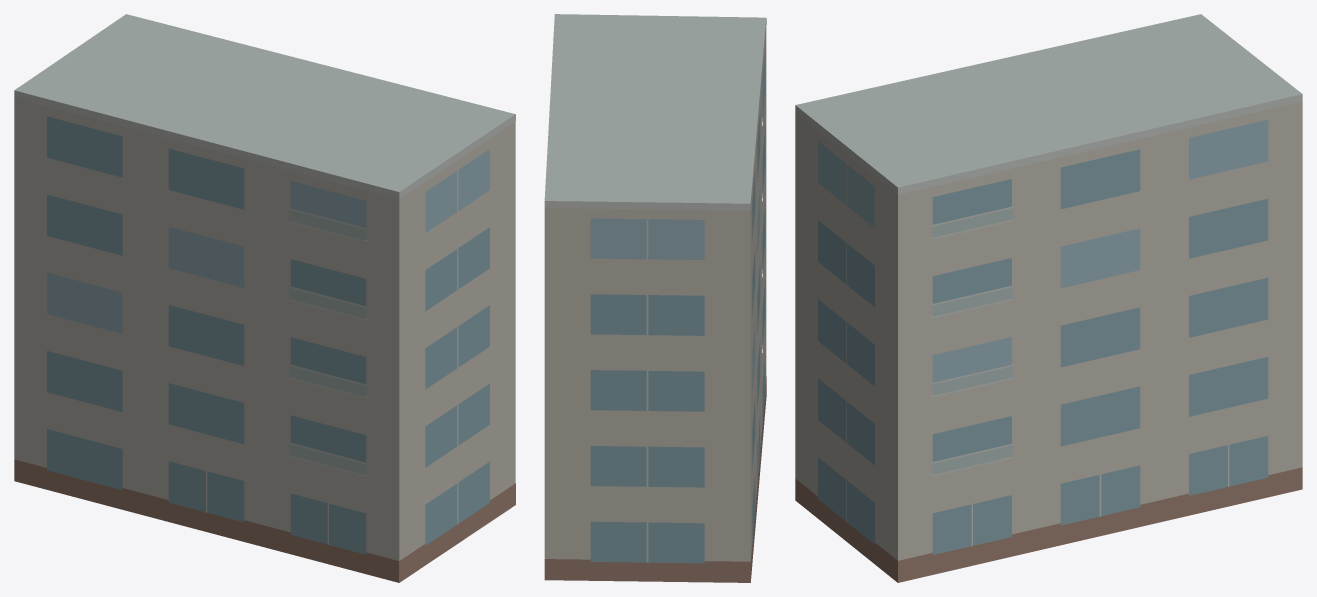
File: survey-upis-32893702.glb
3 renders of one model, left to right at view 1: azimuth 30°, elevation 25°; view 2: azimuth 150°, elevation 25°; view 3: azimuth 270°, elevation 25°, orthographic. The views are drawn at different scales.
Parts seen in each view (by area): view 1: survey-upis-32893702.tmp; view 2: survey-upis-32893702.tmp; view 3: survey-upis-32893702.tmp.
Part boxes in pixels (bbox=[...]): survey-upis-32893702.tmp: bbox=[14, 14, 515, 582]; survey-upis-32893702.tmp: bbox=[544, 14, 766, 582]; survey-upis-32893702.tmp: bbox=[795, 14, 1302, 582].
Bounding box in the file's own units: 12.44 × 13.2 × 15.36.
